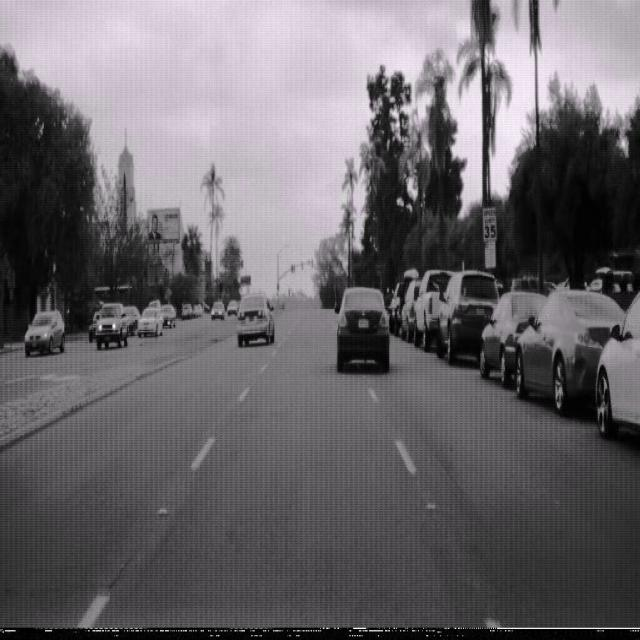speedLimit35: (482, 205, 498, 243)
